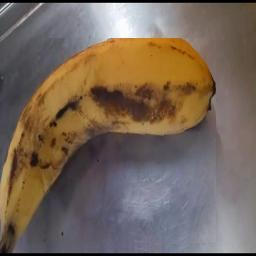Banana Semirotten: (0, 38, 216, 253)
